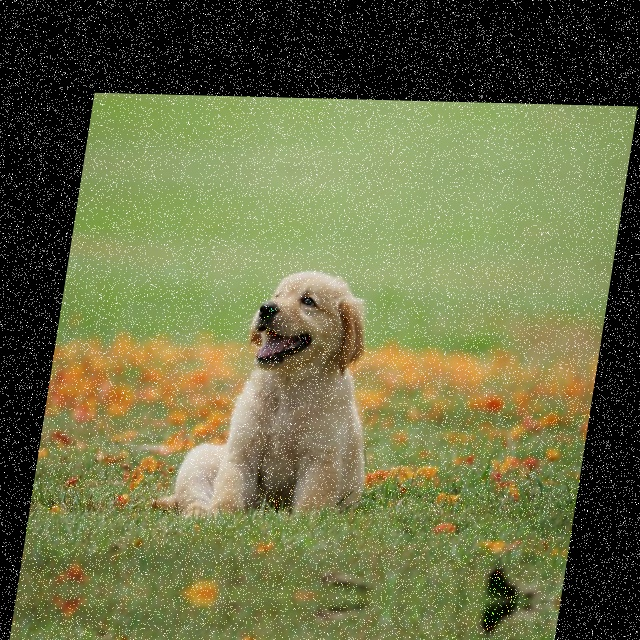dog: (162, 231, 418, 558), (233, 96, 440, 108), (146, 630, 357, 640)
